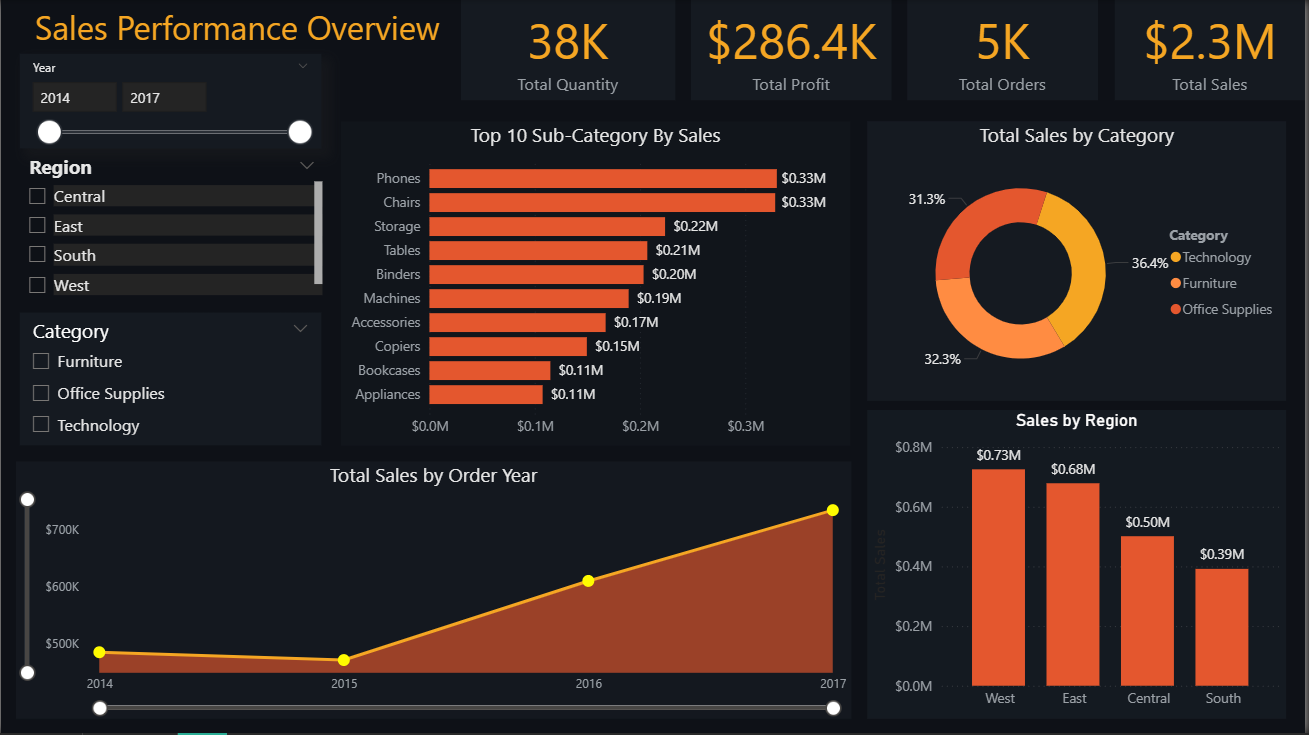

What the dashboard file says about the page in this screenshot:
{"tool":"powerbi","page":{"name":"Page 3","canvas":[1280,720],"ordinal":0},"visuals":[{"type":"slicer","fields":{"Values":["Sample - Superstore.Order Year"]},"box":[18.6,52.9,295.7,92.9],"z":0},{"type":"slicer","fields":{"Values":["Sample - Superstore.Category"]},"box":[18.6,307.1,295.7,130],"z":1000},{"type":"card","fields":{"Values":["Sample - Superstore.Total Quantity"]},"box":[451.4,0,210,98.6],"z":2000},{"type":"card","fields":{"Values":["Sample - Superstore.Total Profit"]},"box":[677.1,0,197.1,98.6],"z":3000},{"type":"card","fields":{"Values":["Sample - Superstore.Total Orders"]},"box":[890,0,187.1,98.6],"z":4000},{"type":"card","fields":{"Values":["Sample - Superstore.Total Sales"]},"box":[1092.9,0,187.1,98.6],"z":5000},{"type":"clusteredBarChart","title":"Top 10 Sub-Category By Sales","fields":{"Category":["Sample - Superstore.Sub-Category"],"Y":["Sample - Superstore.Total Sales"]},"box":[334.3,118.6,500,318.6],"z":6000},{"type":"donutChart","fields":{"Category":["Sample - Superstore.Category"],"Y":["Sample - Superstore.Total Sales"]},"box":[850,118.6,411.4,274.3],"z":7000},{"type":"areaChart","fields":{"Category":["Sample - Superstore.Order Year"],"Y":["Sample - Superstore.Total Sales"]},"box":[14.3,452.9,820,252.9],"z":8000},{"type":"clusteredColumnChart","title":"Sales by Region","fields":{"Y":["Sample - Superstore.Total Sales"],"Category":["Sample - Superstore.Region"]},"box":[850,402.9,411.4,302.9],"z":9000},{"type":"slicer","fields":{"Values":["Sample - Superstore.Region"]},"box":[14.3,145.7,305.7,150],"z":10000},{"type":"textbox","box":[28.6,0,422.9,52.9],"z":10001}]}

Visuals, with their boxes in screenshot pixels (x1, y1, x2, y2), scaled from the page's 1280x720 canvas onto the 1309x735 screenshot:
slicer - Sample - Superstore.Order Year: 19, 54, 321, 149
slicer - Sample - Superstore.Category: 19, 313, 321, 446
card - Sample - Superstore.Total Quantity: 462, 0, 676, 101
card - Sample - Superstore.Total Profit: 692, 0, 894, 101
card - Sample - Superstore.Total Orders: 910, 0, 1102, 101
card - Sample - Superstore.Total Sales: 1118, 0, 1308, 101
"Top 10 Sub-Category By Sales" clusteredBarChart: 342, 121, 853, 446
donutChart - Sample - Superstore.Category x Sample - Superstore.Total Sales: 869, 121, 1290, 401
areaChart - Sample - Superstore.Order Year x Sample - Superstore.Total Sales: 15, 462, 853, 721
"Sales by Region" clusteredColumnChart: 869, 411, 1290, 721
slicer - Sample - Superstore.Region: 15, 149, 327, 302
textbox: 29, 0, 462, 54
